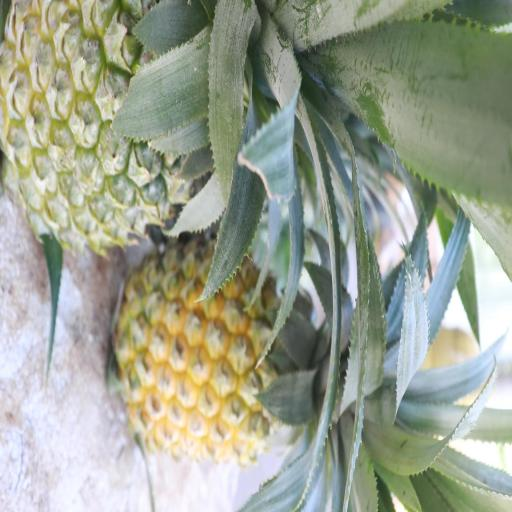------------------------------: (0, 0, 302, 245)
Pineapple - v8 v1: (121, 250, 358, 460)
